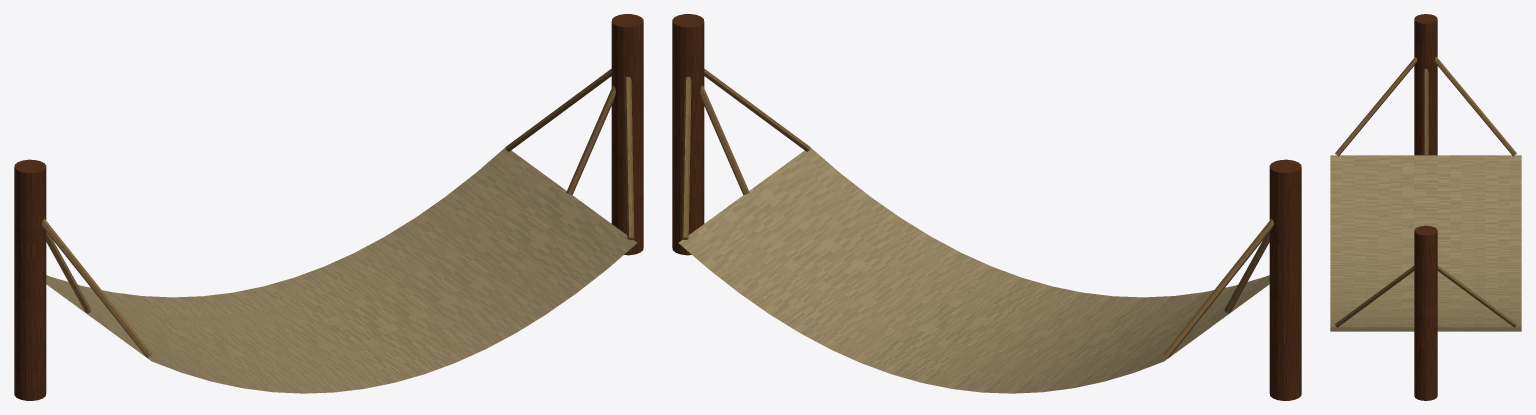
Rendered from SM_hammock.gltf.
3 views of the same model, side by side, from view 1: azimuth 30°, elevation 25°; view 2: azimuth 150°, elevation 25°; view 3: azimuth 270°, elevation 25° (orthographic). The views are drawn at different scales.
Visible parts, largest first — view 1: root; view 2: root; view 3: root.
Part boxes in pixels (x1,y1,x2,y2): root: (14, 14, 643, 400); root: (672, 14, 1301, 400); root: (1330, 14, 1521, 400).
Bounding box in the file's own units: 2.47 × 0.91 × 0.9.
3 materials, 3 textured.
